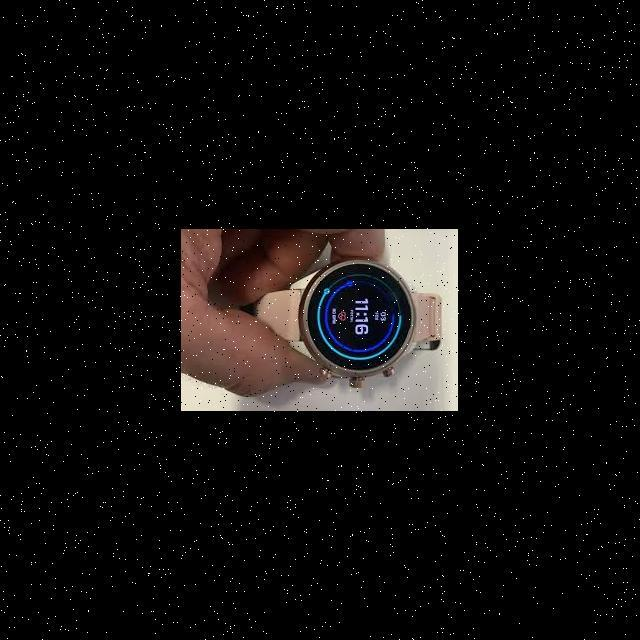watch: (248, 255, 460, 350)
